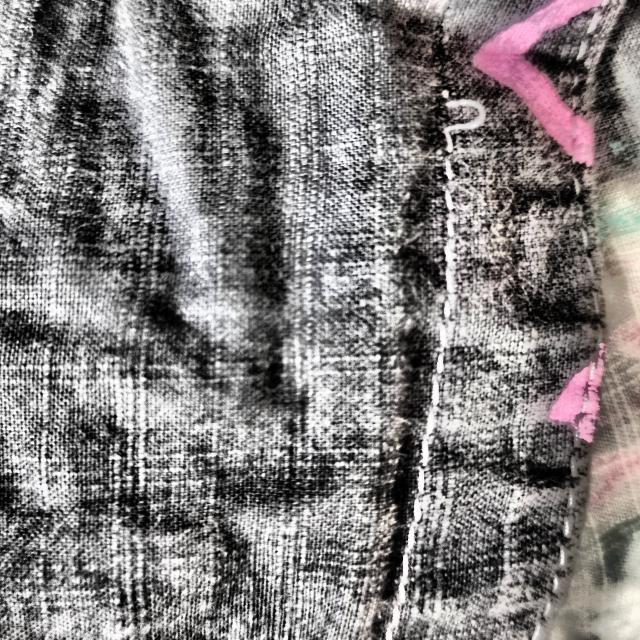Stitch: (390, 39, 541, 196), (399, 55, 527, 180)
